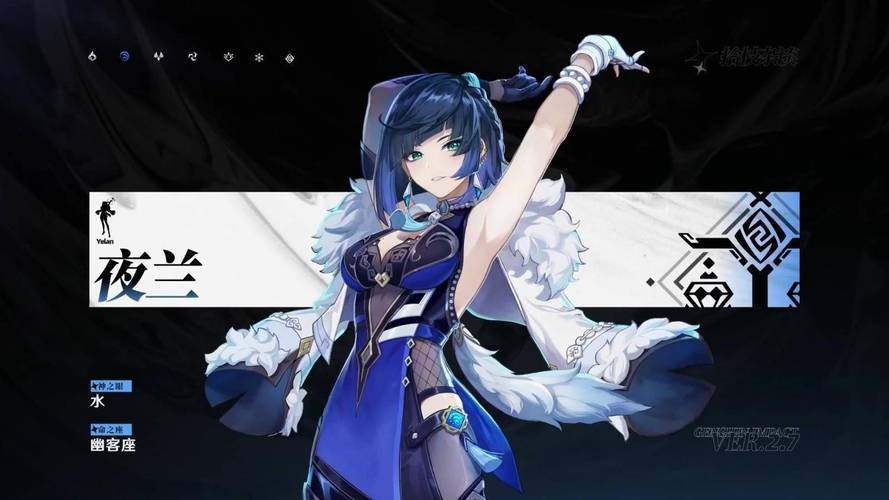夜兰: (277, 21, 650, 500)
